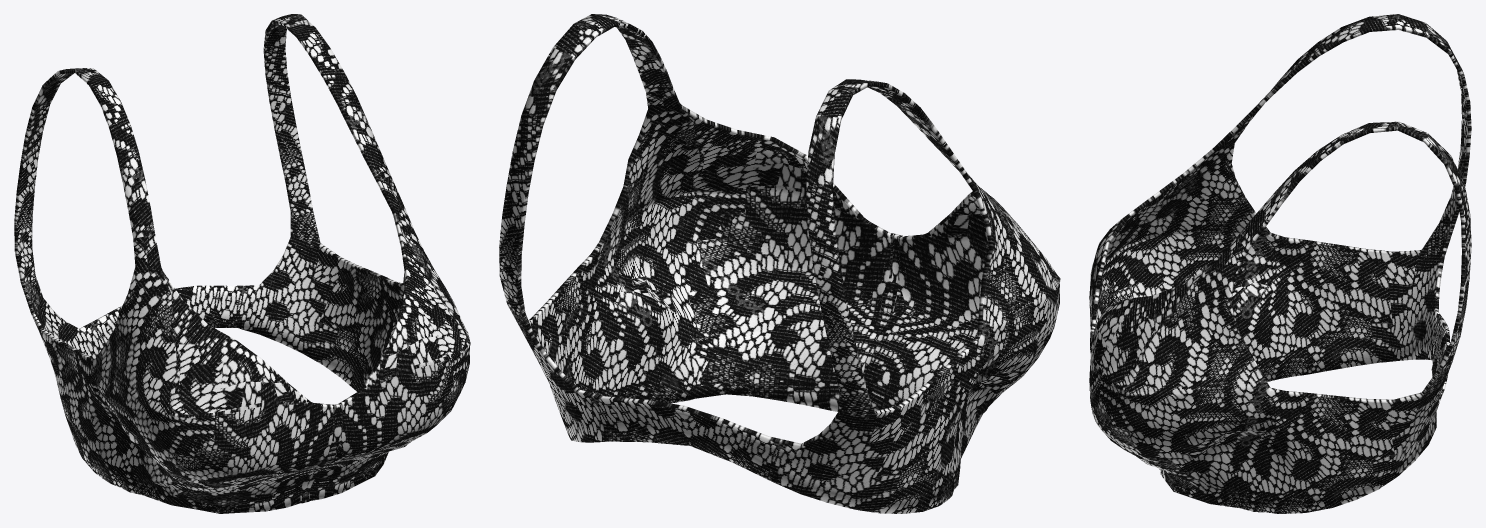
Rendered from brassier02.obj.
The picture shows the model from 3 angles, left to right: view 1: azimuth 30°, elevation 25°; view 2: azimuth 150°, elevation 25°; view 3: azimuth 270°, elevation 25°; orthographic projection. The views are drawn at different scales.
Visible parts, largest first — view 1: Pattern2D_6541; view 2: Pattern2D_6541; view 3: Pattern2D_6541.
Part boxes in pixels (left/top/right/bottom): Pattern2D_6541: left=14, top=14, right=470, bottom=513; Pattern2D_6541: left=499, top=14, right=1060, bottom=513; Pattern2D_6541: left=1089, top=14, right=1471, bottom=513.
Bounding box in the file's own units: 3.37 × 3.71 × 3.34.
Materials: 2 (2 with a texture image).
